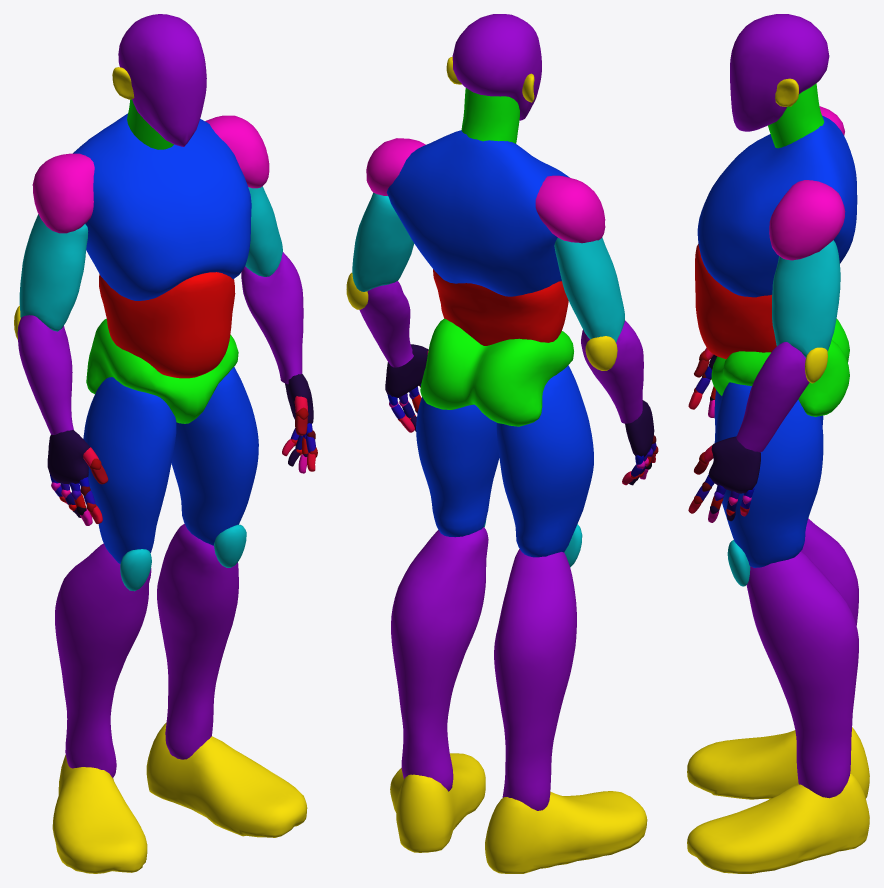
Rendered from CuerpoGeo.fbx.
The picture shows the model from 3 angles, left to right: view 1: azimuth 30°, elevation 25°; view 2: azimuth 150°, elevation 25°; view 3: azimuth 270°, elevation 25°; orthographic projection.
Visible parts, largest first — view 1: Legs_bottom, Chest_copy1, Legs_Top, Foot, Belly_copy1, Forearm, Head2, Biceps_copy1, Shoulders_copy1, Hand19, Hip, Knee (+1 smaller); view 2: Legs_bottom, Legs_Top, Chest_copy1, Foot, Hip, Biceps_copy1, Head2, Belly_copy1, Forearm, Shoulders_copy1, Hand19, Neck_copy1 (+1 smaller); view 3: Legs_bottom, Foot, Chest_copy1, Legs_Top, Head2, Biceps_copy1, Belly_copy1, Shoulders_copy1, Hand19, Forearm, Hip, Neck_copy1 (+3 smaller).
Boxes of the visible parts, x1=… form: Legs_bottom: x1=55, y1=524, x2=238, y2=777; Chest_copy1: x1=73, y1=113, x2=251, y2=300; Legs_Top: x1=83, y1=367, x2=258, y2=563; Foot: x1=52, y1=722, x2=307, y2=873; Belly_copy1: x1=99, y1=272, x2=235, y2=378; Forearm: x1=17, y1=252, x2=303, y2=434; Head2: x1=118, y1=14, x2=206, y2=146; Biceps_copy1: x1=19, y1=186, x2=282, y2=331; Shoulders_copy1: x1=32, y1=115, x2=269, y2=233; Hand19: x1=47, y1=374, x2=317, y2=525; Hip: x1=86, y1=318, x2=238, y2=423; Knee: x1=120, y1=524, x2=246, y2=591; Legs_bottom: x1=391, y1=527, x2=576, y2=810; Legs_Top: x1=416, y1=365, x2=593, y2=557; Chest_copy1: x1=386, y1=130, x2=569, y2=296; Foot: x1=390, y1=753, x2=647, y2=873; Hip: x1=420, y1=318, x2=573, y2=426; Biceps_copy1: x1=352, y1=192, x2=624, y2=342; Head2: x1=452, y1=14, x2=541, y2=120; Belly_copy1: x1=433, y1=269, x2=568, y2=345; Forearm: x1=359, y1=281, x2=643, y2=423; Shoulders_copy1: x1=366, y1=138, x2=605, y2=243; Hand19: x1=385, y1=344, x2=658, y2=485; Neck_copy1: x1=461, y1=88, x2=519, y2=143; Legs_bottom: x1=746, y1=518, x2=858, y2=798; Foot: x1=687, y1=727, x2=869, y2=873; Chest_copy1: x1=697, y1=115, x2=857, y2=297; Legs_Top: x1=714, y1=382, x2=823, y2=567; Head2: x1=730, y1=14, x2=829, y2=131; Biceps_copy1: x1=772, y1=240, x2=840, y2=357; Belly_copy1: x1=695, y1=244, x2=776, y2=359; Shoulders_copy1: x1=769, y1=106, x2=845, y2=260; Hand19: x1=688, y1=348, x2=760, y2=522; Forearm: x1=736, y1=342, x2=809, y2=452; Hip: x1=711, y1=319, x2=849, y2=416; Neck_copy1: x1=768, y1=83, x2=824, y2=148.
Bounding box in the file's own units: 10.75 × 29.9 × 6.17.
